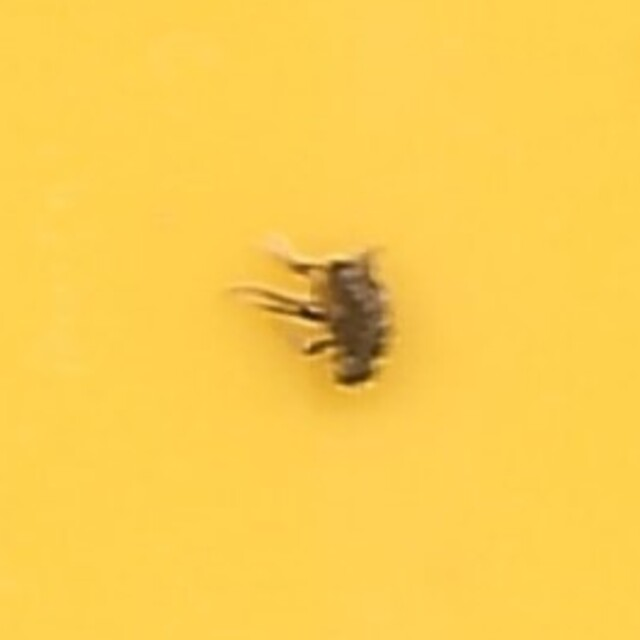Brachycera: (242, 245, 398, 395)
